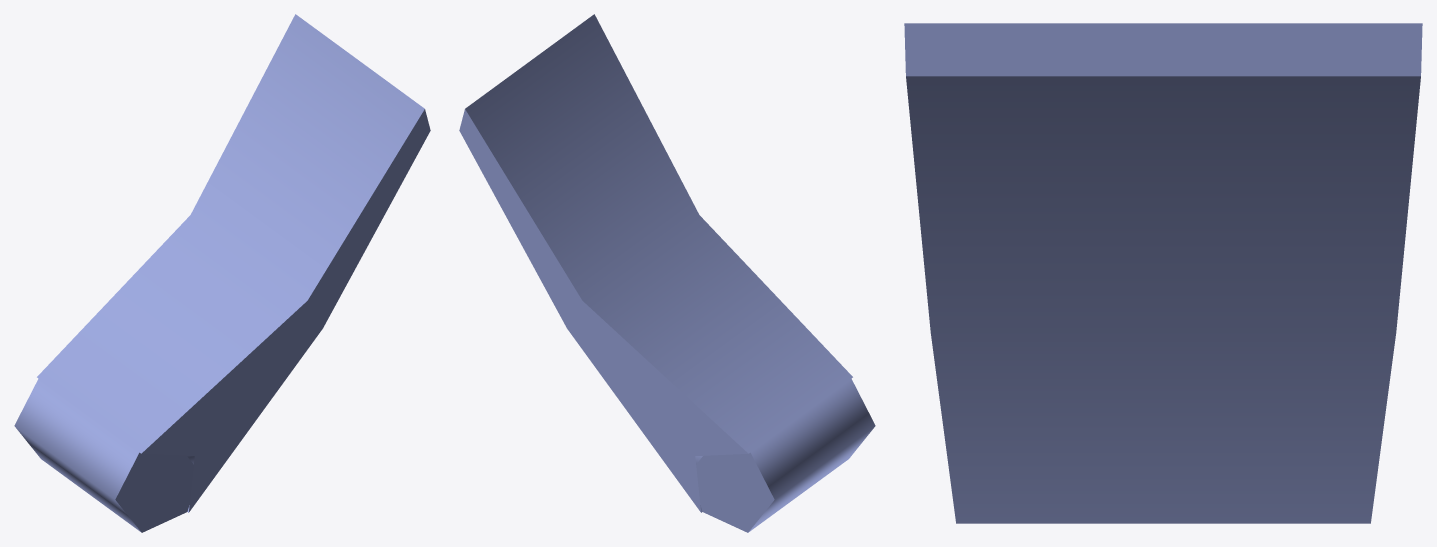
The model's file is Copie de palette^Copie de Ass pour axe palette sur roue d_echapement_Horloge Comtoise Verge - Sonnerie.obj.
The picture shows the model from 3 angles, left to right: view 1: azimuth 30°, elevation 25°; view 2: azimuth 150°, elevation 25°; view 3: azimuth 270°, elevation 25°; orthographic projection. The views are drawn at different scales.
Parts seen in each view (by area): view 1: Face_1, Face_4, Face_3, Face_8; view 2: Face_1, Face_2, Face_3, Face_9; view 3: Face_7, Face_5.
Part boxes in pixels (x1=…): Face_1: x1=37, y1=14, x2=424, y2=453; Face_4: x1=142, y1=109, x2=430, y2=512; Face_3: x1=14, y1=378, x2=141, y2=532; Face_8: x1=115, y1=452, x2=193, y2=532; Face_1: x1=465, y1=14, x2=852, y2=453; Face_2: x1=459, y1=109, x2=747, y2=512; Face_3: x1=748, y1=378, x2=875, y2=532; Face_9: x1=696, y1=452, x2=774, y2=532; Face_7: x1=906, y1=76, x2=1420, y2=523; Face_5: x1=904, y1=23, x2=1422, y2=76.
Size of the model in its own units: 0.0103 by 0.0121 by 0.0077.
